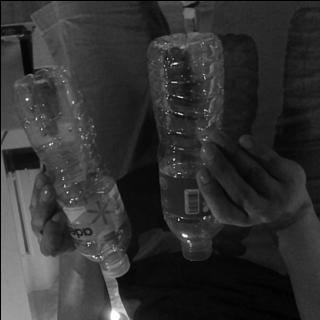plastic_bottles: (12, 63, 128, 279), (146, 29, 224, 261)
